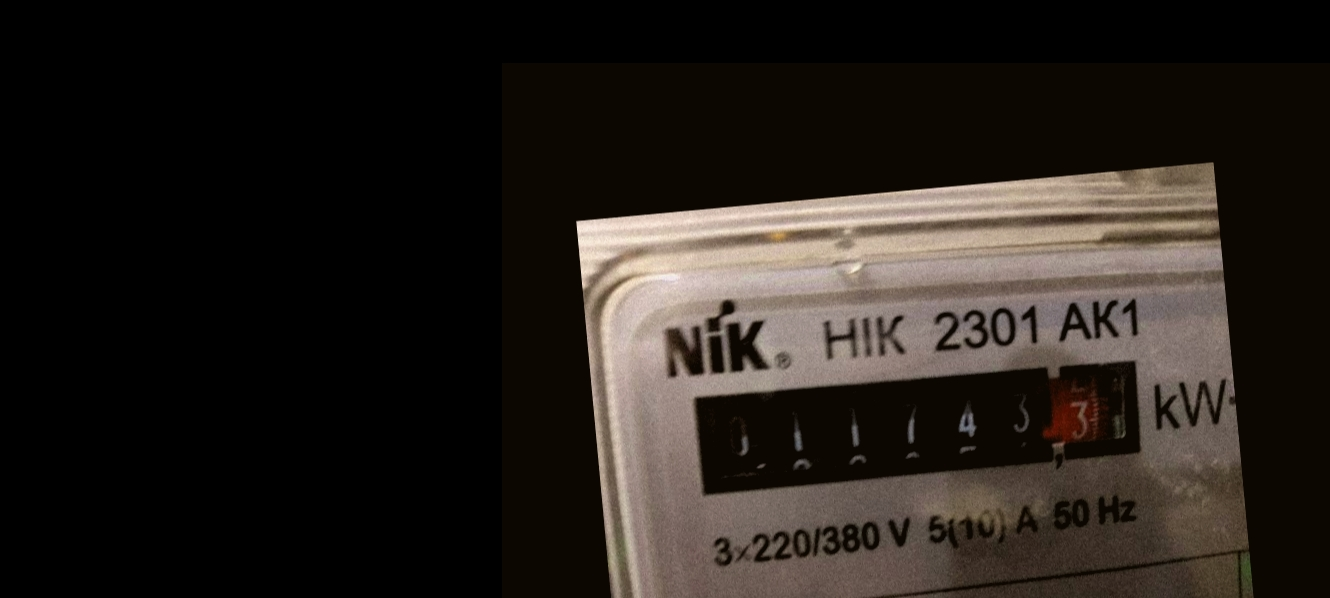0: (723, 411, 756, 461)
1: (842, 402, 868, 452), (787, 408, 809, 457)
3: (1006, 388, 1038, 438), (1067, 397, 1095, 443)
4: (952, 392, 984, 443)
7: (898, 399, 926, 449)
screen: (678, 347, 1153, 508)
